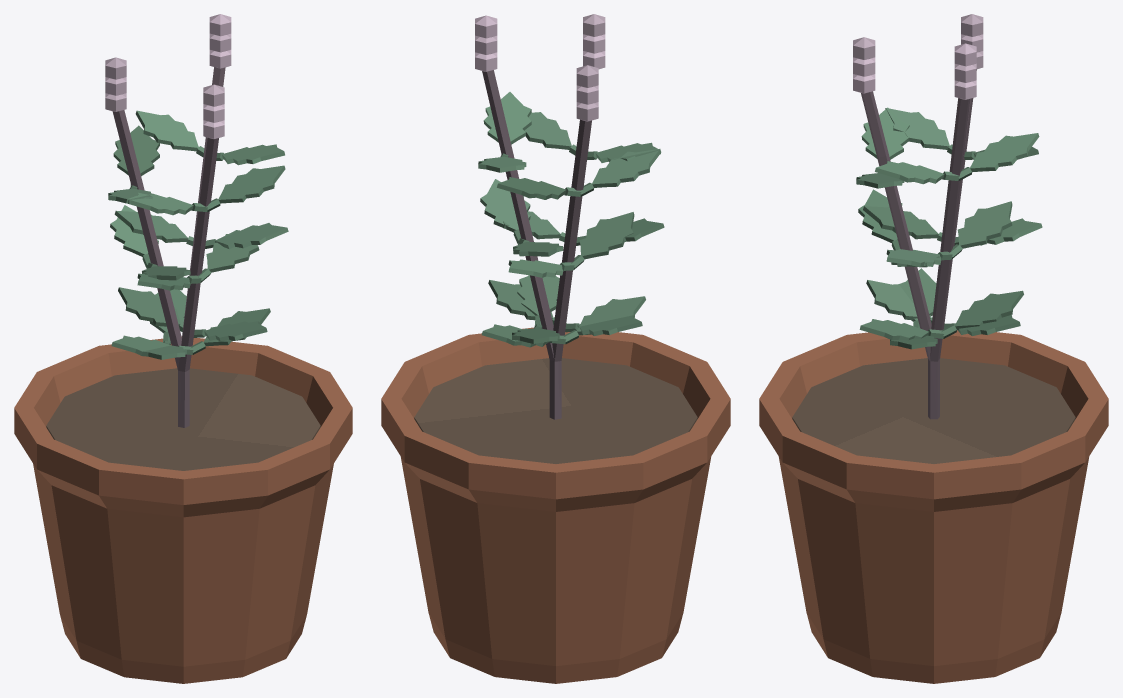
The model's file is peppermint.glb.
3 renders of one model, left to right at view 1: azimuth 30°, elevation 25°; view 2: azimuth 150°, elevation 25°; view 3: azimuth 270°, elevation 25°, orthographic. The views are drawn at different scales.
Visible parts, largest first — view 1: peppermint/review-terra-vessel, peppermint/review-rooted-soil, peppermint/stem-033, peppermint/stem-001, peppermint/leaf-029, peppermint/leaf-013, peppermint/leaf-021, peppermint/leaf-043, peppermint/leaf-023, peppermint/leaf-025, peppermint/leaf-009, peppermint/leaf-011 (+8 smaller); view 2: peppermint/review-terra-vessel, peppermint/review-rooted-soil, peppermint/stem-033, peppermint/stem-017, peppermint/leaf-041, peppermint/leaf-045, peppermint/leaf-027, peppermint/leaf-023, peppermint/leaf-013, peppermint/leaf-037, peppermint/leaf-043, peppermint/leaf-005 (+9 smaller); view 3: peppermint/review-terra-vessel, peppermint/review-rooted-soil, peppermint/stem-017, peppermint/stem-001, peppermint/leaf-025, peppermint/leaf-029, peppermint/leaf-021, peppermint/leaf-045, peppermint/leaf-037, peppermint/leaf-011, peppermint/leaf-041, peppermint/leaf-027 (+8 smaller).
Part boxes in pixels (bbox=[...]): peppermint/review-terra-vessel: bbox=[14, 336, 352, 683]; peppermint/review-rooted-soil: bbox=[46, 368, 320, 470]; peppermint/stem-033: bbox=[112, 110, 184, 427]; peppermint/stem-001: bbox=[178, 137, 218, 425]; peppermint/leaf-029: bbox=[135, 110, 198, 151]; peppermint/leaf-013: bbox=[218, 165, 285, 203]; peppermint/leaf-021: bbox=[118, 287, 180, 326]; peppermint/leaf-043: bbox=[113, 125, 159, 176]; peppermint/leaf-023: bbox=[215, 223, 288, 248]; peppermint/leaf-025: bbox=[114, 210, 187, 242]; peppermint/leaf-009: bbox=[206, 233, 259, 272]; peppermint/leaf-011: bbox=[126, 192, 193, 215]; peppermint/review-terra-vessel: bbox=[381, 327, 730, 683]; peppermint/review-rooted-soil: bbox=[414, 358, 697, 463]; peppermint/stem-033: bbox=[549, 119, 591, 419]; peppermint/stem-017: bbox=[482, 70, 561, 419]; peppermint/leaf-041: bbox=[579, 212, 634, 259]; peppermint/leaf-045: bbox=[592, 149, 661, 187]; peppermint/leaf-027: bbox=[483, 92, 531, 144]; peppermint/leaf-023: bbox=[480, 179, 530, 232]; peppermint/leaf-013: bbox=[524, 112, 571, 149]; peppermint/leaf-037: bbox=[577, 296, 645, 335]; peppermint/leaf-043: bbox=[497, 177, 566, 199]; peppermint/leaf-005: bbox=[488, 280, 553, 320]; peppermint/review-terra-vessel: bbox=[759, 330, 1108, 683]; peppermint/review-rooted-soil: bbox=[792, 358, 1075, 463]; peppermint/stem-017: bbox=[928, 98, 970, 418]; peppermint/stem-001: bbox=[861, 91, 937, 419]; peppermint/leaf-025: bbox=[957, 201, 1012, 248]; peppermint/leaf-029: bbox=[970, 133, 1039, 171]; peppermint/leaf-021: bbox=[955, 290, 1023, 329]; peppermint/leaf-045: bbox=[885, 108, 949, 149]; peppermint/leaf-037: bbox=[866, 280, 931, 320]; peppermint/leaf-011: bbox=[861, 107, 909, 159]; peppermint/leaf-041: bbox=[863, 206, 938, 239]; peppermint/leaf-027: bbox=[875, 161, 944, 184].
Size of the model in its own units: 0.19 by 0.369 by 0.19.
5 materials, 5 textured.
